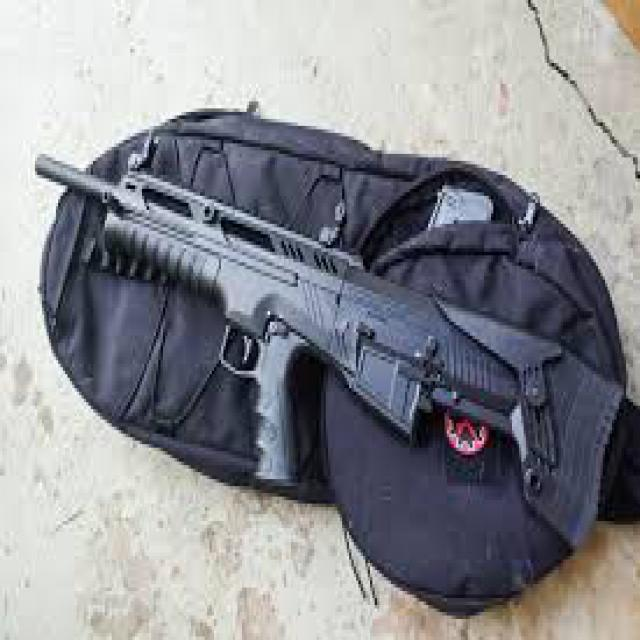long weapon: (21, 130, 559, 523)
